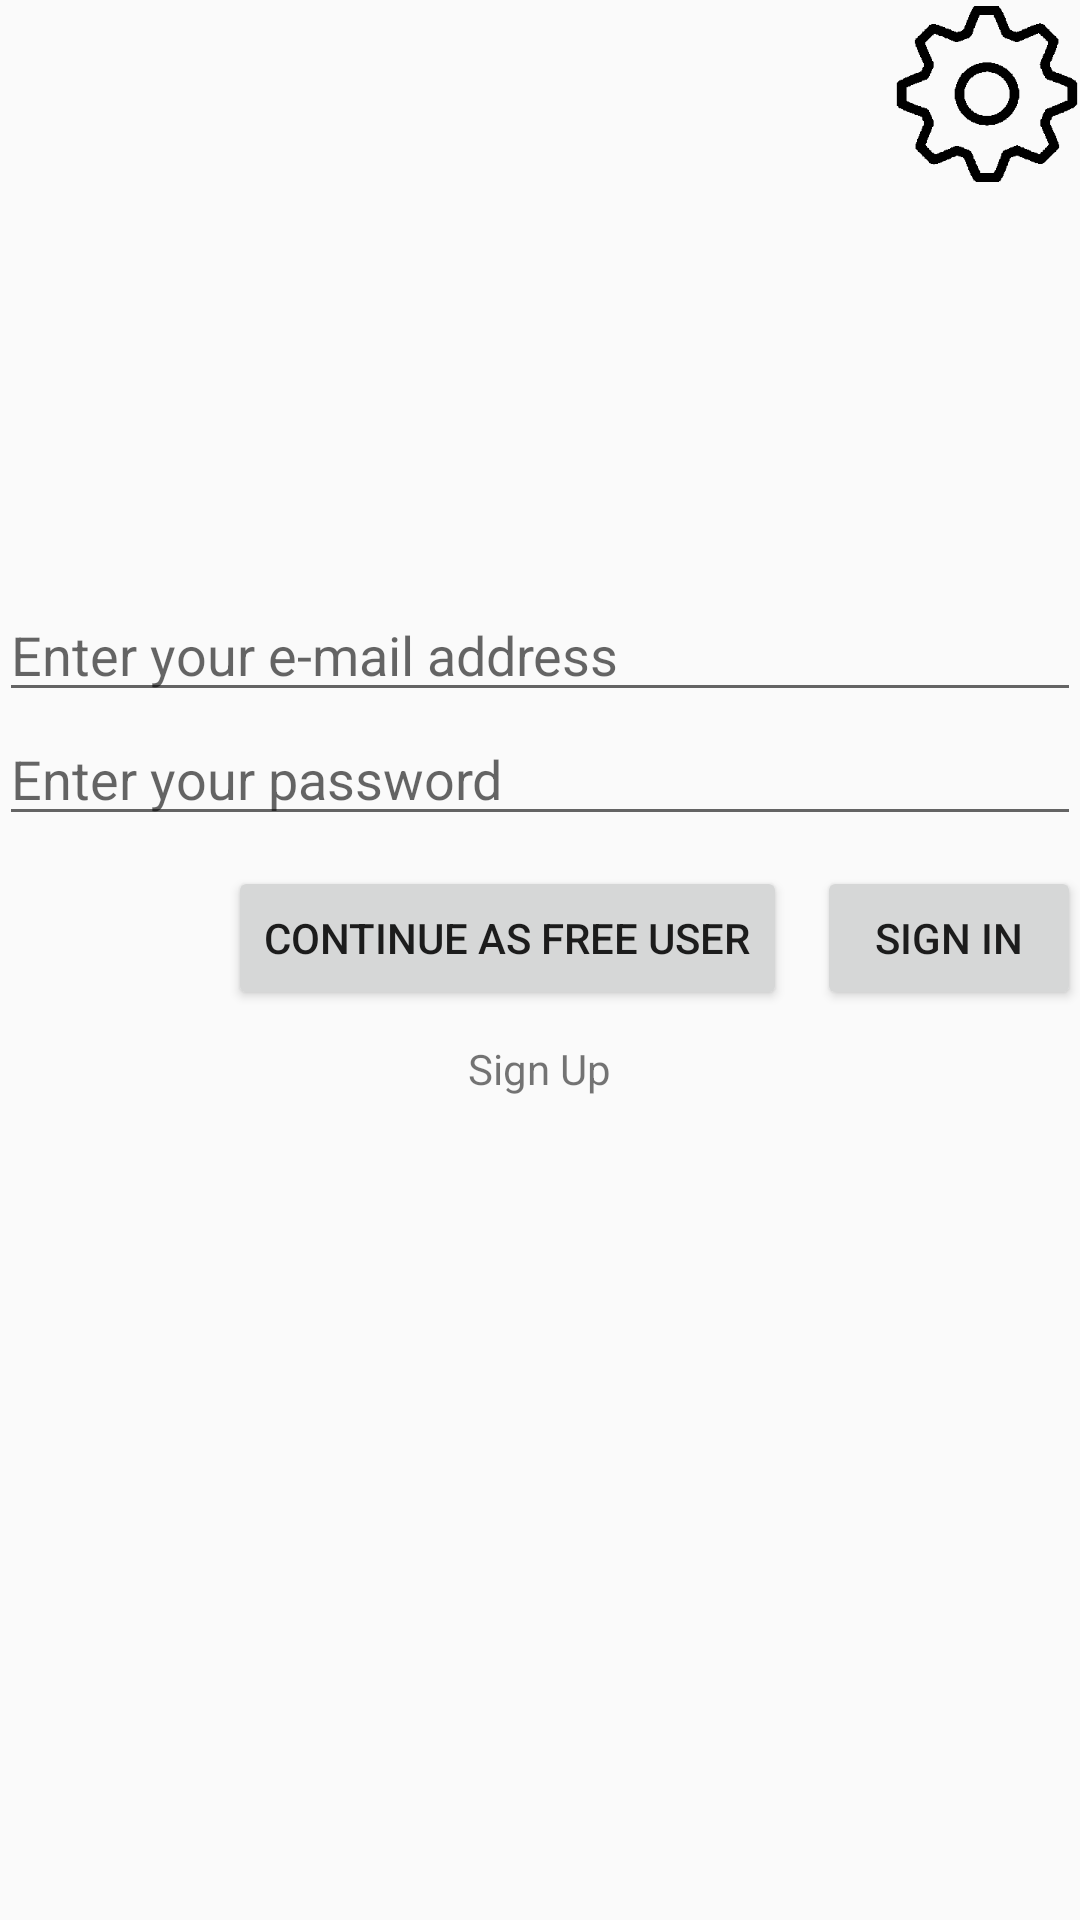

Point at icon controls on the screen. Image size 1080 x 1920, points as [x,y].
settings gear symbol: [987,94]
